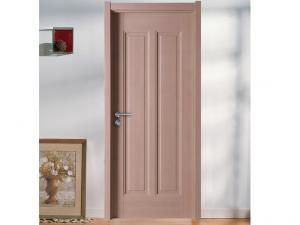door: (116, 10, 195, 218)
